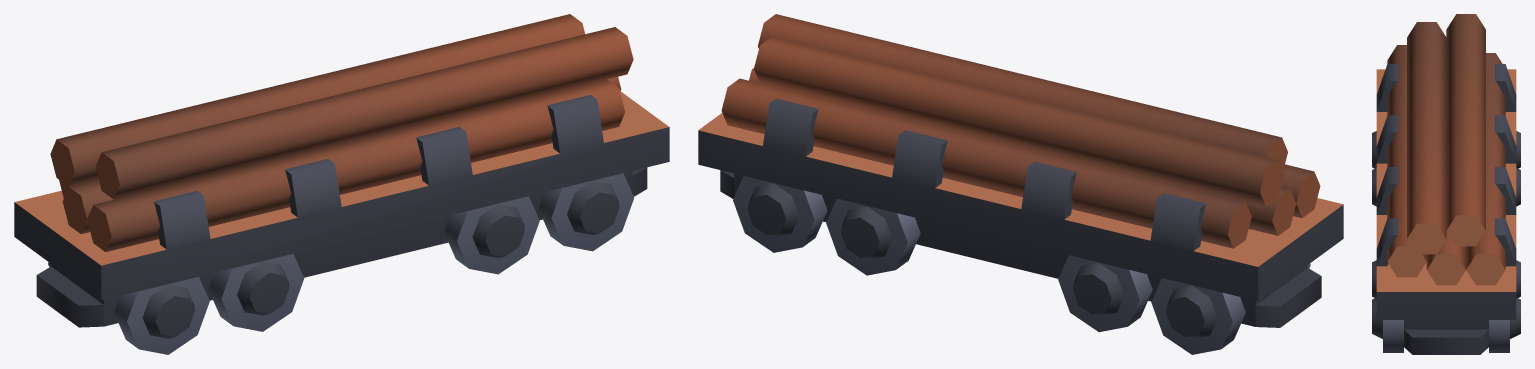
File: train-wagon-logs.glb
The picture shows the model from 3 angles, left to right: view 1: azimuth 30°, elevation 25°; view 2: azimuth 150°, elevation 25°; view 3: azimuth 270°, elevation 25°; orthographic projection. The views are drawn at different scales.
Visible parts, largest first — view 1: train-wagon-logs; view 2: train-wagon-logs; view 3: train-wagon-logs.
Part boxes in pixels (x1,y1,x2,y2): train-wagon-logs: (14, 14, 669, 354); train-wagon-logs: (698, 14, 1343, 354); train-wagon-logs: (1372, 14, 1520, 354).
Size of the model in its own units: 0.6914 by 0.2168 by 0.1949.
